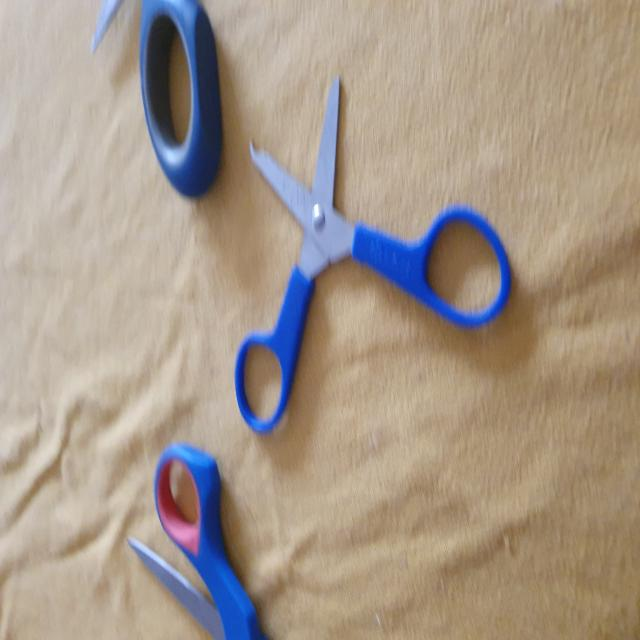scissors: (232, 75, 518, 434), (89, 0, 227, 197), (130, 440, 265, 640)
